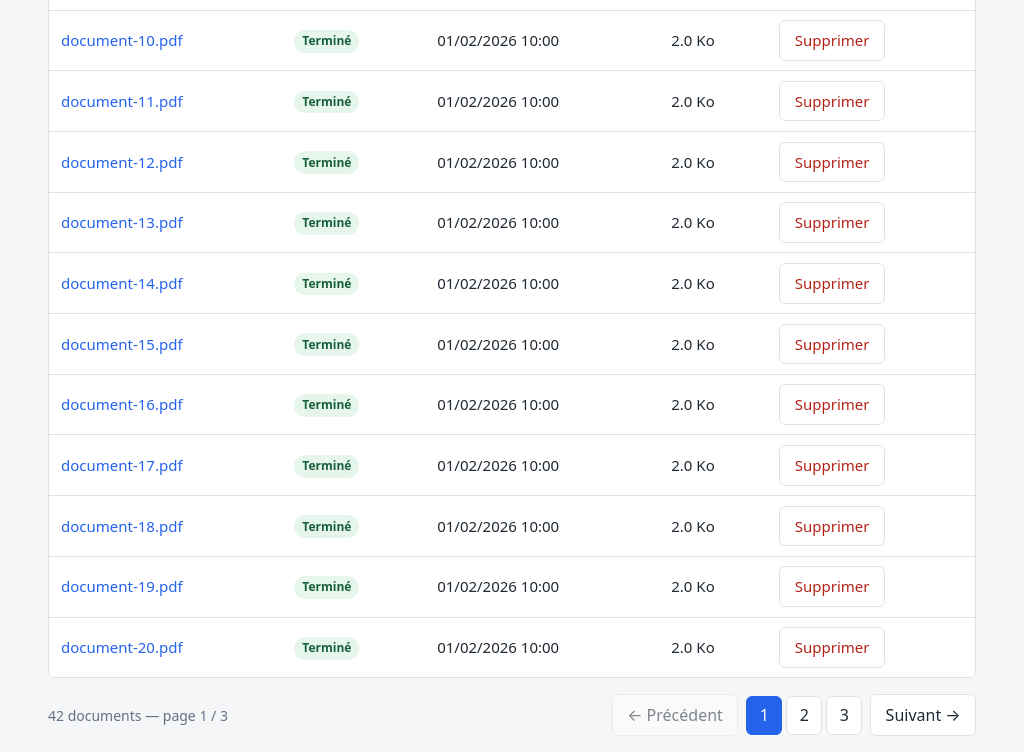
Test: Pagination de la liste des documents › affiche la page suivante sans garder la precedente
(page scrolled)
Click the button "Suivant →": coordinates (923, 715) x1=870 y1=694 x2=976 y2=736
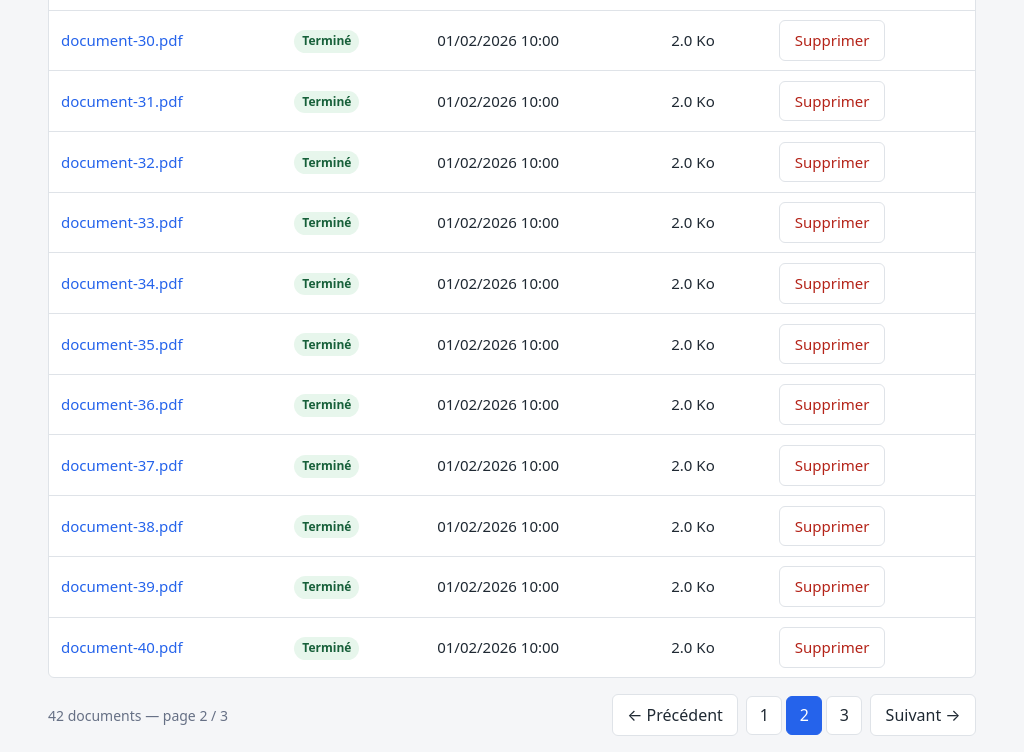
expect the text "42 documents — page 2 / 3" is shown: met, box x1=48 y1=705 x2=228 y2=726
expect the text "document-40.pdf" is shown: met, box x1=49 y1=617 x2=282 y2=677
